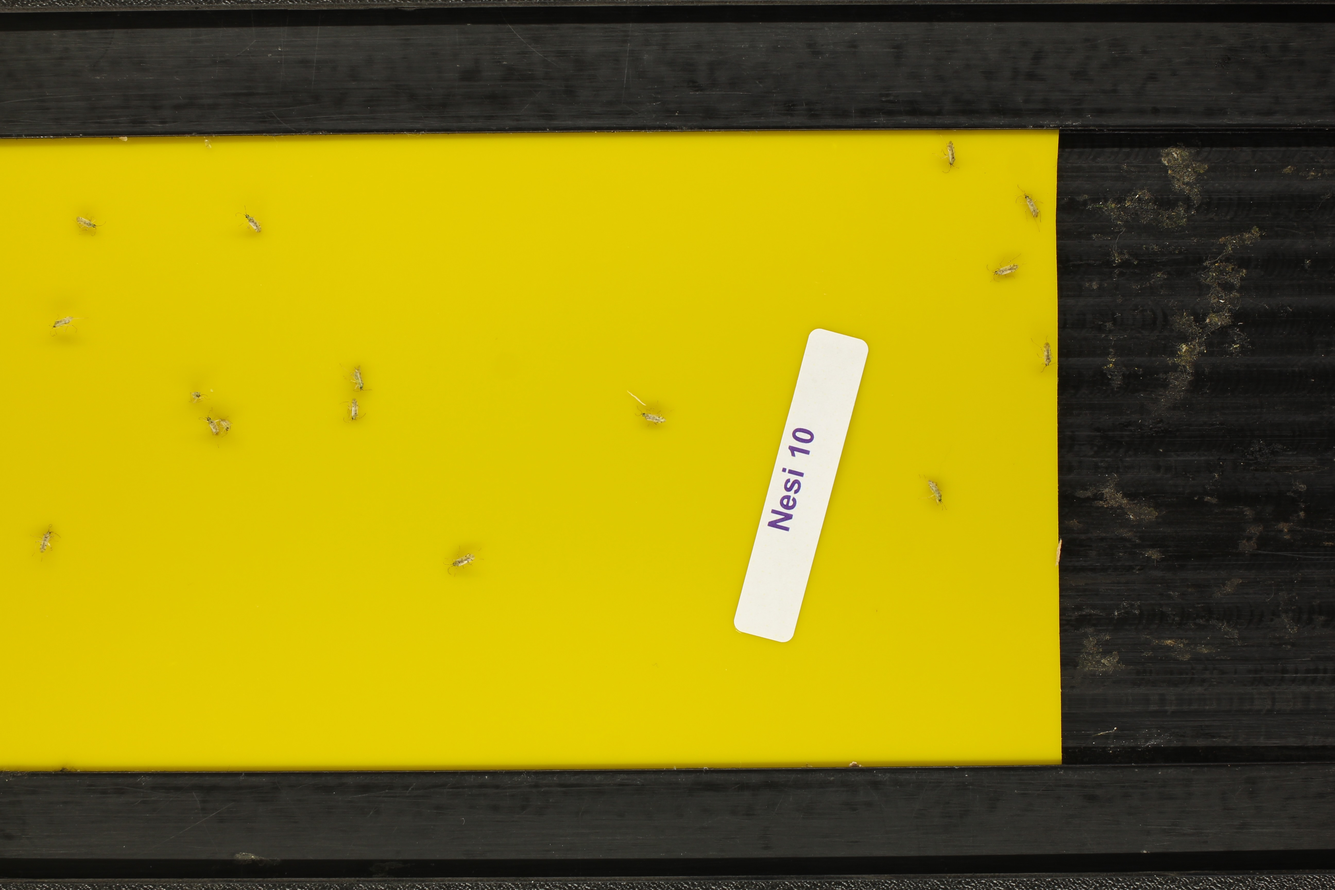NC: (28, 522, 67, 564), (1011, 185, 1049, 227), (445, 545, 487, 580), (337, 358, 375, 395), (629, 402, 676, 429), (230, 201, 266, 235), (69, 210, 111, 239), (985, 257, 1025, 285), (921, 475, 951, 511), (339, 392, 369, 426), (47, 311, 81, 339), (1033, 336, 1056, 373), (942, 136, 959, 179), (196, 411, 220, 440), (184, 388, 213, 405), (215, 414, 236, 436)
